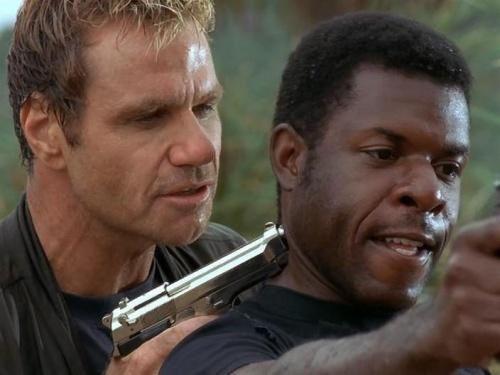Gun: (102, 220, 291, 358)
